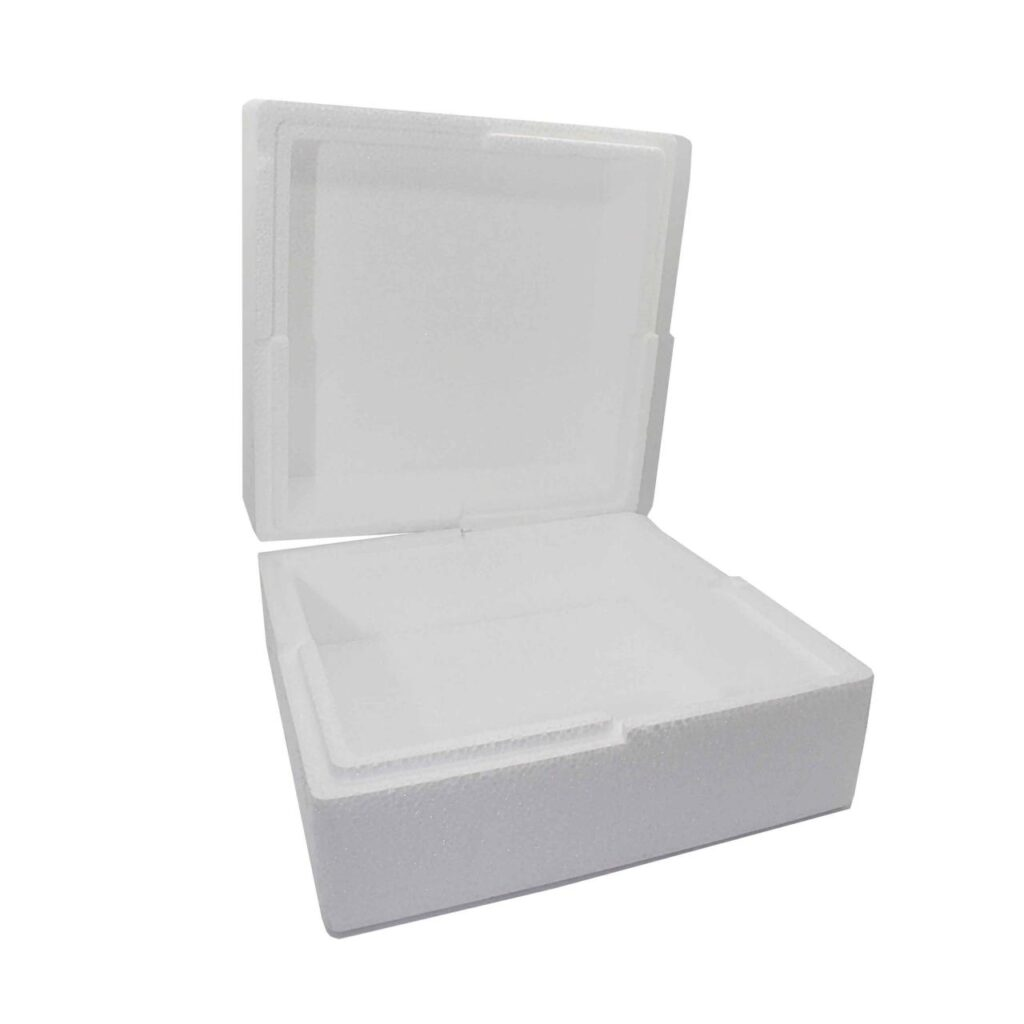泡沫箱: (243, 101, 873, 937)
